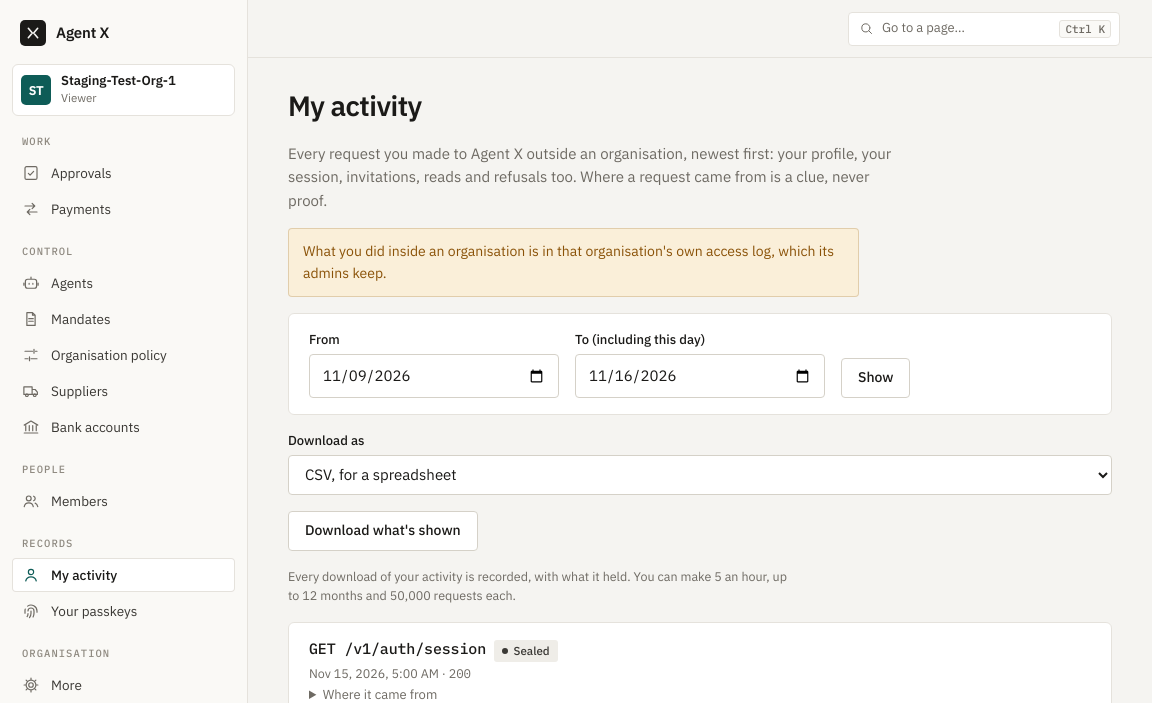
Test: My activity (6E1a) › says ACTIVITY_EXPORTS_BUSY in plain words
Click the button "Download what's shown": (383, 531) [288, 511, 478, 551]
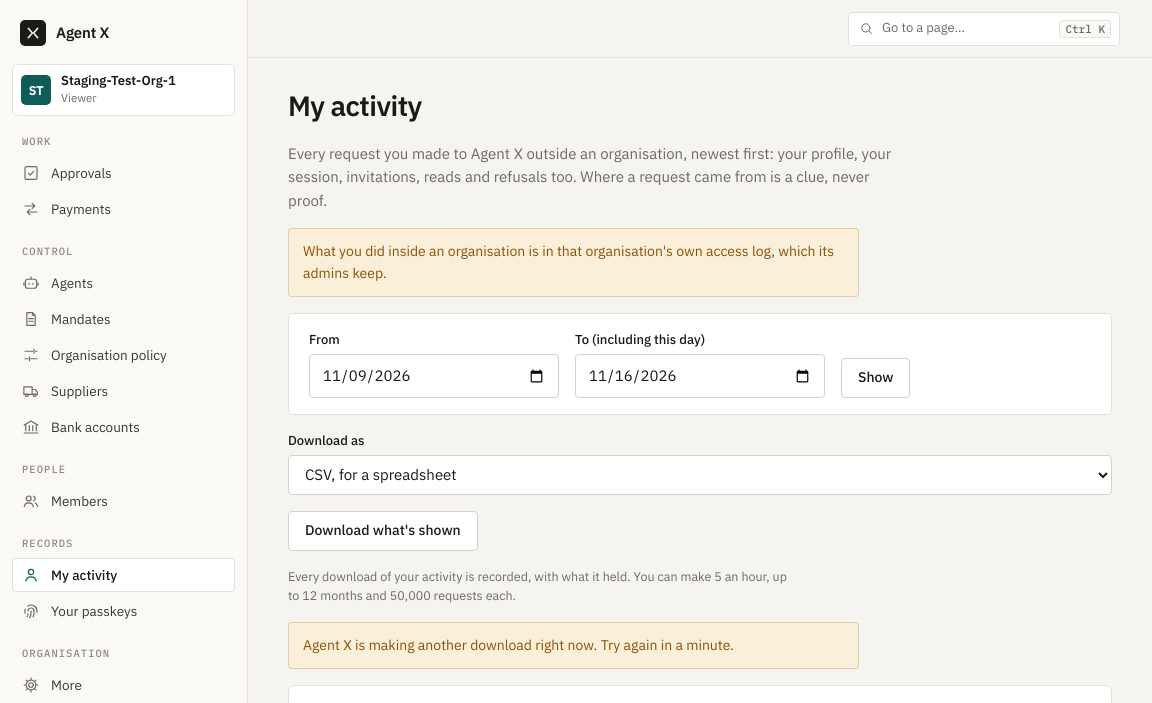
Check: the text "Agent X is making another download right now. Try again in a minute." is shown, box [288, 622, 859, 669]
